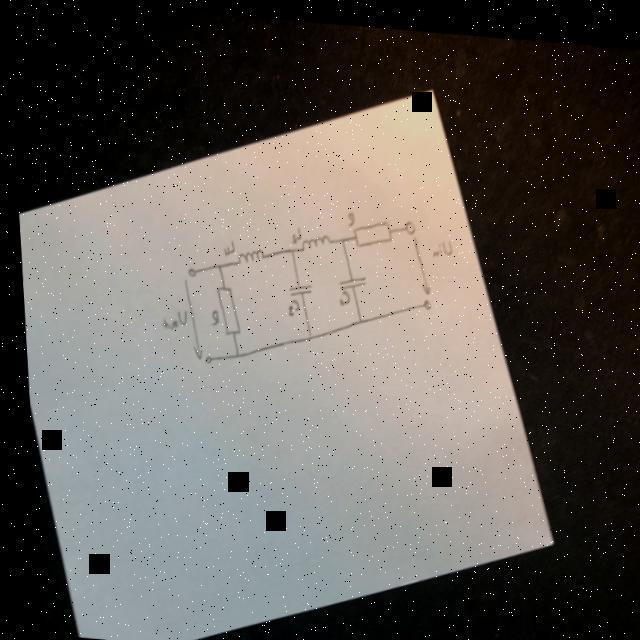capacitor: (332, 267, 363, 288), (283, 277, 309, 294)
inductor: (295, 225, 327, 247), (230, 240, 261, 262)
junction: (227, 345, 234, 354), (285, 240, 291, 250), (336, 229, 342, 239), (352, 311, 358, 320), (301, 327, 307, 336), (211, 258, 217, 267)
resistor: (347, 210, 391, 243), (212, 282, 237, 333)
terminal: (397, 213, 412, 229), (414, 289, 427, 304), (197, 350, 210, 362), (183, 263, 192, 275)
text: (153, 303, 183, 330), (427, 231, 450, 253), (332, 282, 346, 302), (281, 293, 294, 312), (218, 235, 231, 252), (287, 222, 298, 239), (341, 205, 351, 222), (204, 305, 213, 323)
